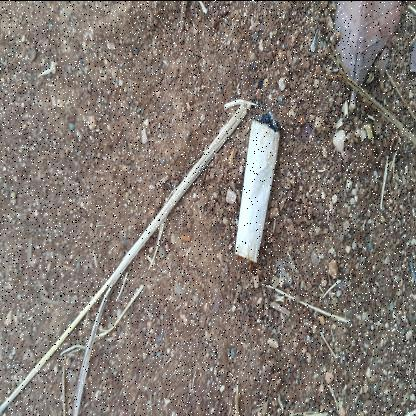paper: (230, 114, 284, 262)
